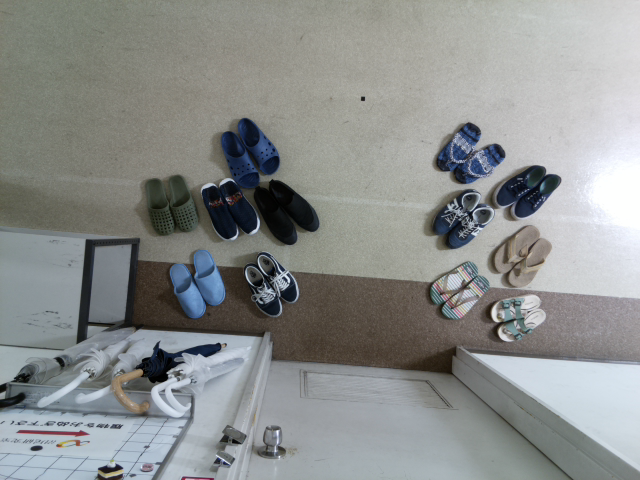Copy of Copy of Copy of Copy of Copy of Copy of Copy of sandal: (496, 309, 546, 343)
Copy of Copy of Copy of Copy of Copy of Copy of Copy of shoes: (253, 185, 297, 245)
Copy of Copy of Copy of Copy of Copy of Copy of sandal: (490, 293, 542, 322)
Copy of Copy of Copy of Copy of Copy of Copy of shoes: (268, 178, 320, 232)
Copy of Copy of Copy of Copy of Copy of sandal: (506, 237, 553, 287)
Copy of Copy of Copy of Copy of Copy of shoes: (255, 249, 301, 303)
Copy of Copy of Copy of Copy of sandal: (492, 223, 541, 273)
Copy of Copy of Copy of Copy of shoes: (242, 264, 284, 316)
Copy of Copy of Copy of sandal: (441, 274, 490, 319)
Copy of Copy of Copy of shoes: (490, 164, 546, 209)
Copy of Copy of sandal: (429, 261, 477, 305)
Copy of Copy of shoes: (510, 172, 561, 220)
Copy of sandal: (454, 142, 505, 182)
Copy of shoes: (442, 204, 495, 249)
Copy of slipper: (192, 248, 225, 304)
sandal: (436, 122, 482, 170)
shoes: (431, 189, 482, 237), (217, 177, 260, 233), (202, 181, 238, 240)
slipper: (236, 116, 280, 175), (218, 129, 261, 189), (169, 261, 206, 318), (167, 174, 199, 232), (144, 178, 175, 234)
